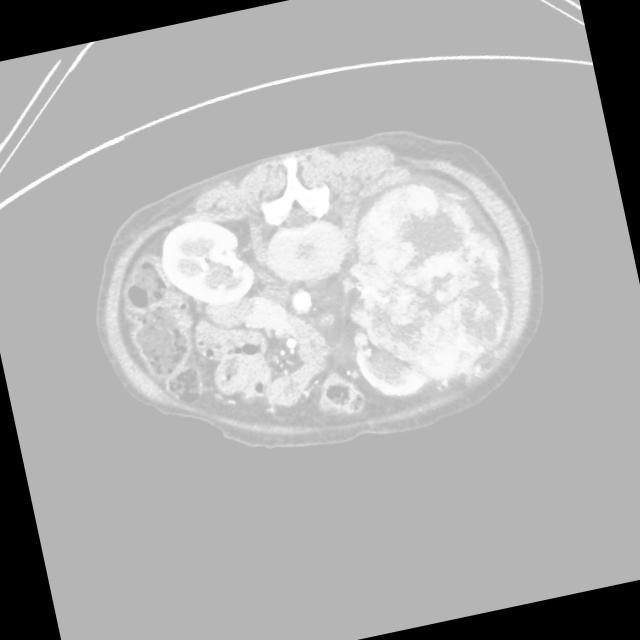TUMOR: (99, 191, 393, 448)
